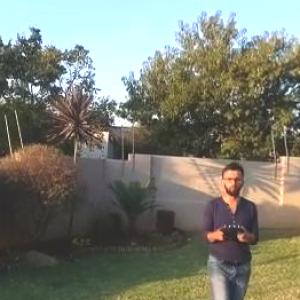follow: (198, 156, 261, 299)
